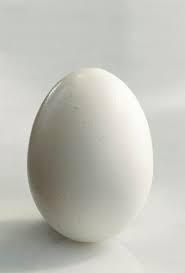eggs: (29, 64, 147, 248)
